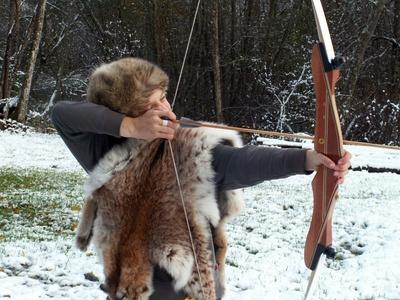person: (48, 59, 353, 300)
